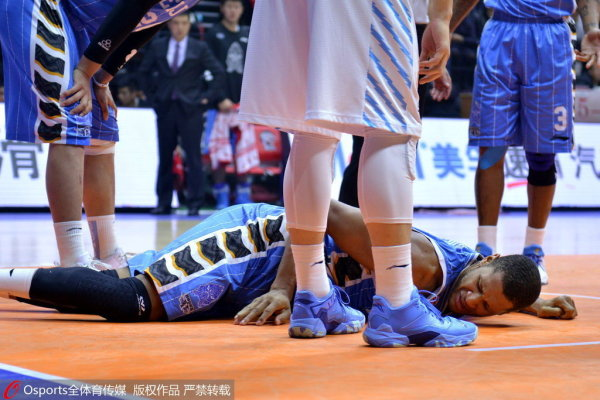fall: (7, 189, 581, 339)
